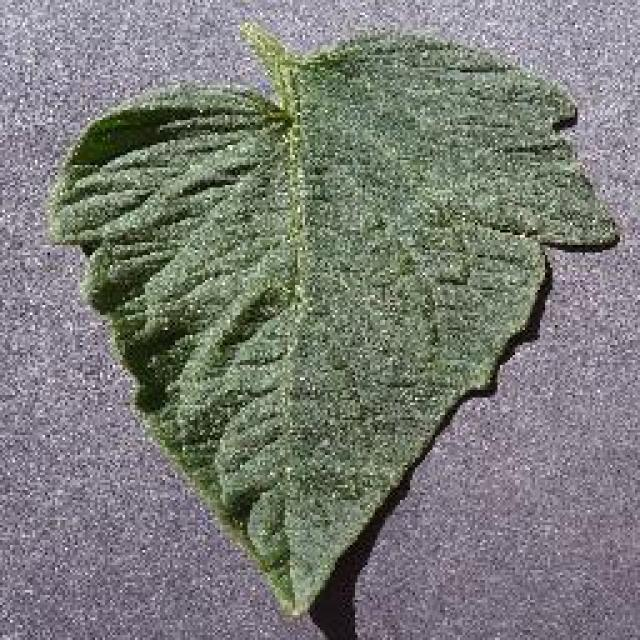Tomato___healthy: (50, 21, 621, 622)
